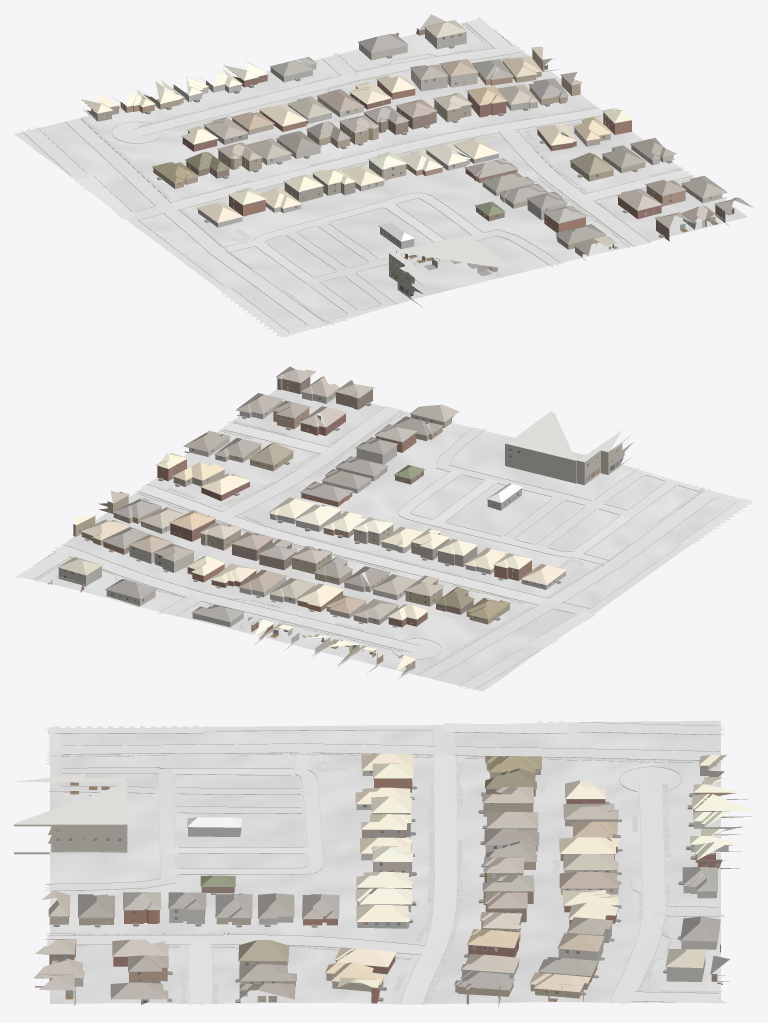
3 views of the same model, one above another, from view 1: azimuth 30°, elevation 25°; view 2: azimuth 150°, elevation 25°; view 3: azimuth 270°, elevation 25° (orthographic). The views are drawn at different scales.
Visible parts, largest first — view 1: ground, roof, concrete, wall, asphalt, curb, wall_stucco, walk, detail, roof_flat, wall_stone, room (+2 smaller); view 2: ground, roof, concrete, wall, asphalt, curb, wall_stucco, walk, detail, wall_com, roof_flat, wall_stone (+1 smaller); view 3: ground, roof, concrete, asphalt, wall, curb, walk, detail, wall_stucco, roof_flat, wall_com, wall_stone (+4 smaller).
Boxes of the visible parts, box(x1,y1,x2,y2) form: ground: box(14, 20, 747, 333); roof: box(81, 14, 753, 255); concrete: box(112, 16, 694, 326); wall: box(84, 28, 728, 260); asphalt: box(25, 118, 325, 337); curb: box(21, 22, 692, 332); wall_stucco: box(173, 28, 706, 248); walk: box(81, 22, 694, 324); detail: box(85, 27, 727, 297); roof_flat: box(390, 234, 512, 284); wall_stone: box(198, 80, 726, 227); room: box(156, 64, 734, 284); ground: box(22, 389, 745, 691); roof: box(56, 366, 566, 671); concrete: box(14, 406, 711, 658); wall: box(73, 376, 531, 679); asphalt: box(419, 490, 753, 688); curb: box(34, 406, 739, 690); wall_stucco: box(58, 392, 521, 658); walk: box(34, 411, 705, 674); detail: box(47, 377, 622, 668); wall_com: box(505, 434, 633, 485); roof_flat: box(506, 411, 622, 462); wall_stone: box(237, 400, 565, 650); ground: box(50, 720, 720, 1004); roof: box(34, 753, 753, 999); concrete: box(43, 730, 726, 1005); asphalt: box(44, 720, 725, 759); wall: box(49, 763, 751, 1007); curb: box(45, 722, 724, 1005); walk: box(49, 753, 721, 1003); detail: box(34, 762, 742, 1002); wall_stucco: box(35, 821, 742, 996); roof_flat: box(14, 773, 127, 824); wall_com: box(14, 824, 127, 854); wall_stone: box(169, 771, 741, 924).
Size of the model in its own units: 259 by 14.5 by 276.
